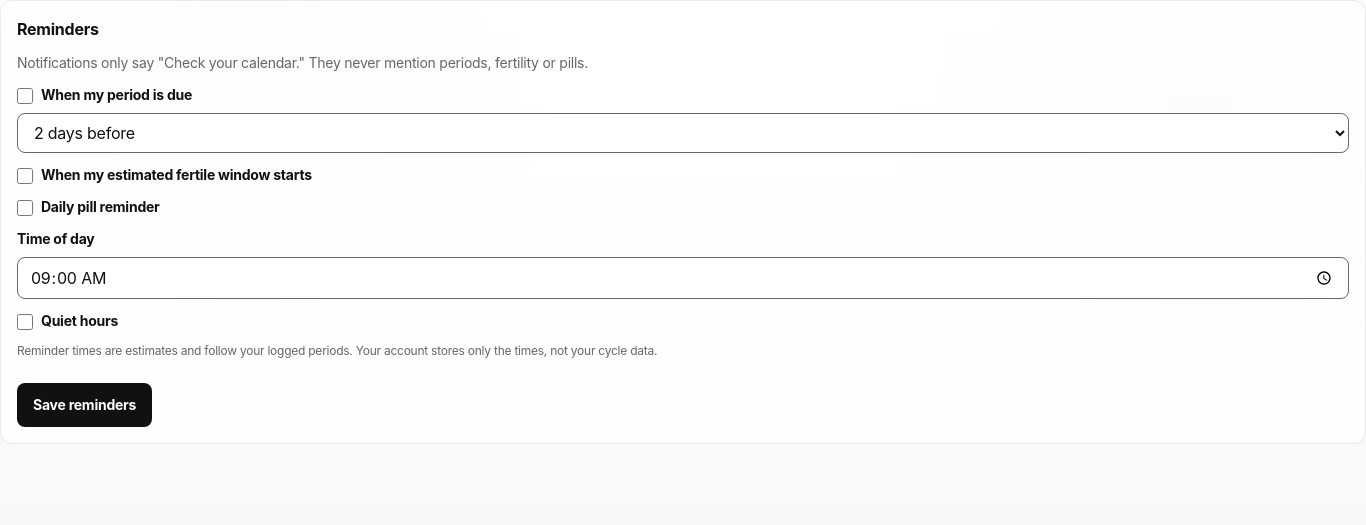
RemindersSection › turns a daily pill reminder on with generic notification text
The width and height of the screenshot is (1366, 525).
Expected: the text "never mention periods, fertility or pills" is shown, 17,54 -> 588,71
Click the checkbox labelled "Daily pill reminder" at point(25, 208), box 17,200 -> 33,216
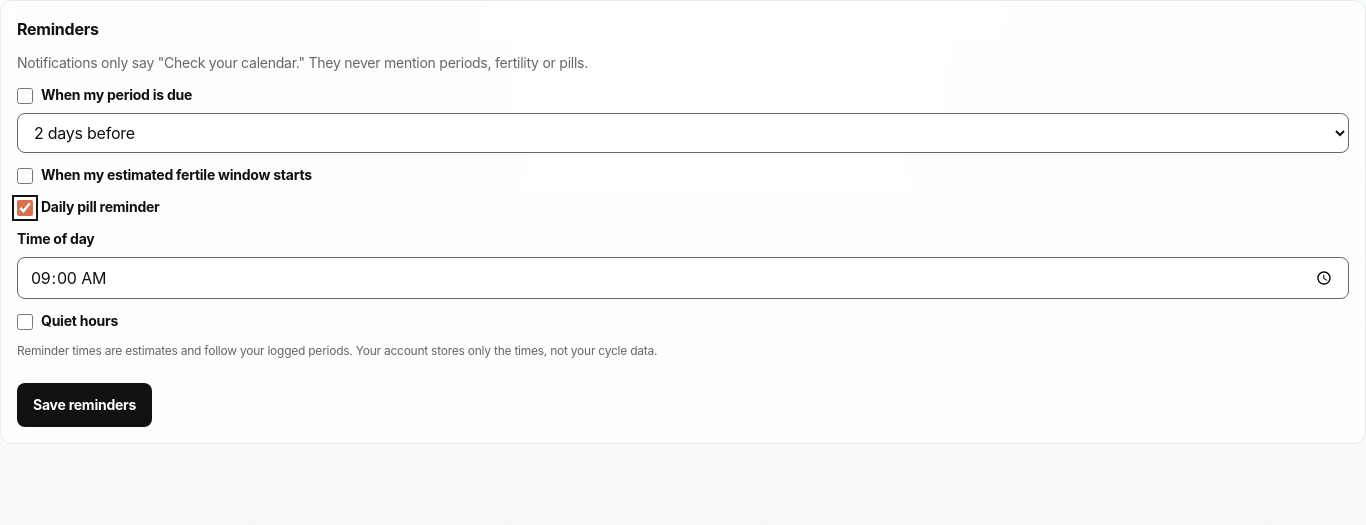
Replace the text in the time field labelled "Time of day" with "08:30" at point(683, 278), box 17,257 -> 1349,299
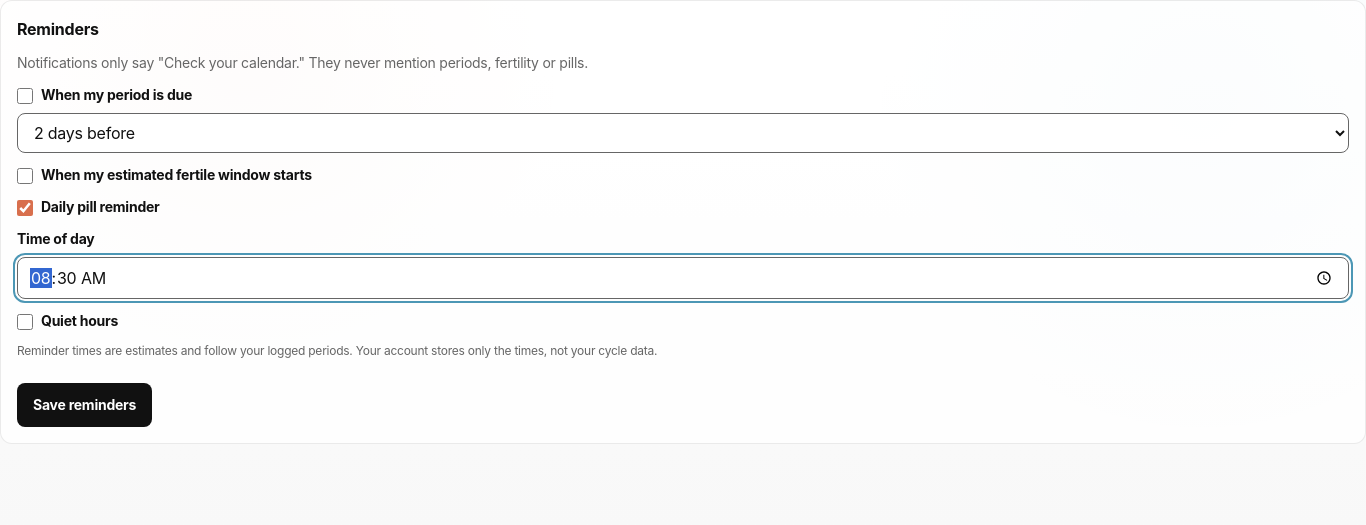
Click the button "Save reminders" at point(85, 405), box 17,383 -> 152,427
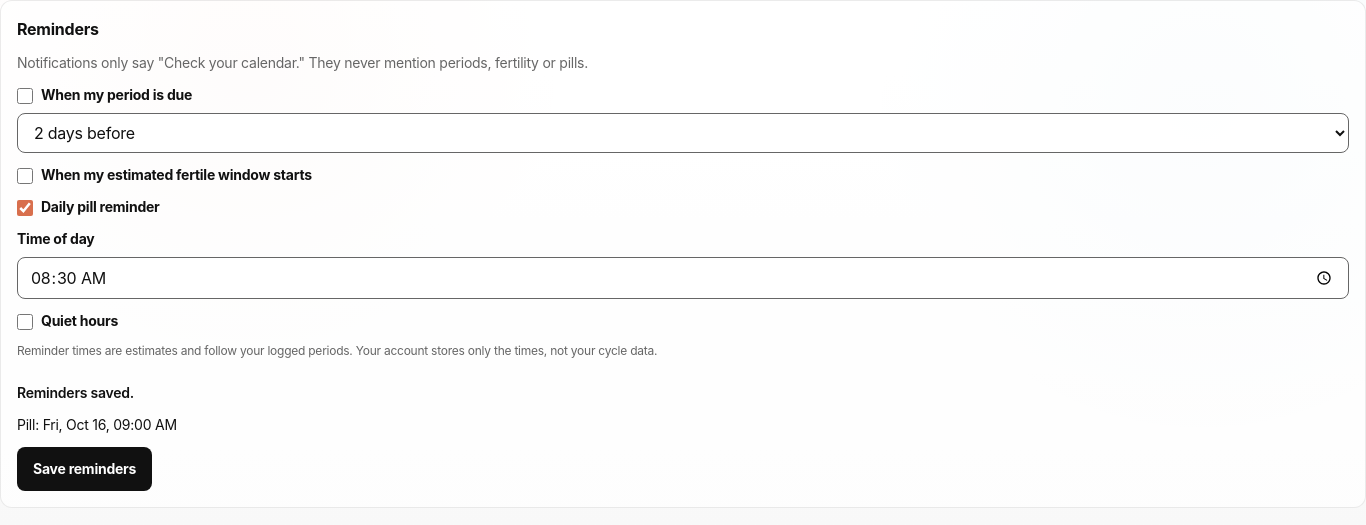
Expected: the text "Reminders saved." is shown, 17,384 -> 134,401
Expected: the list named "Upcoming reminders" shows "Pill", 17,416 -> 35,433
